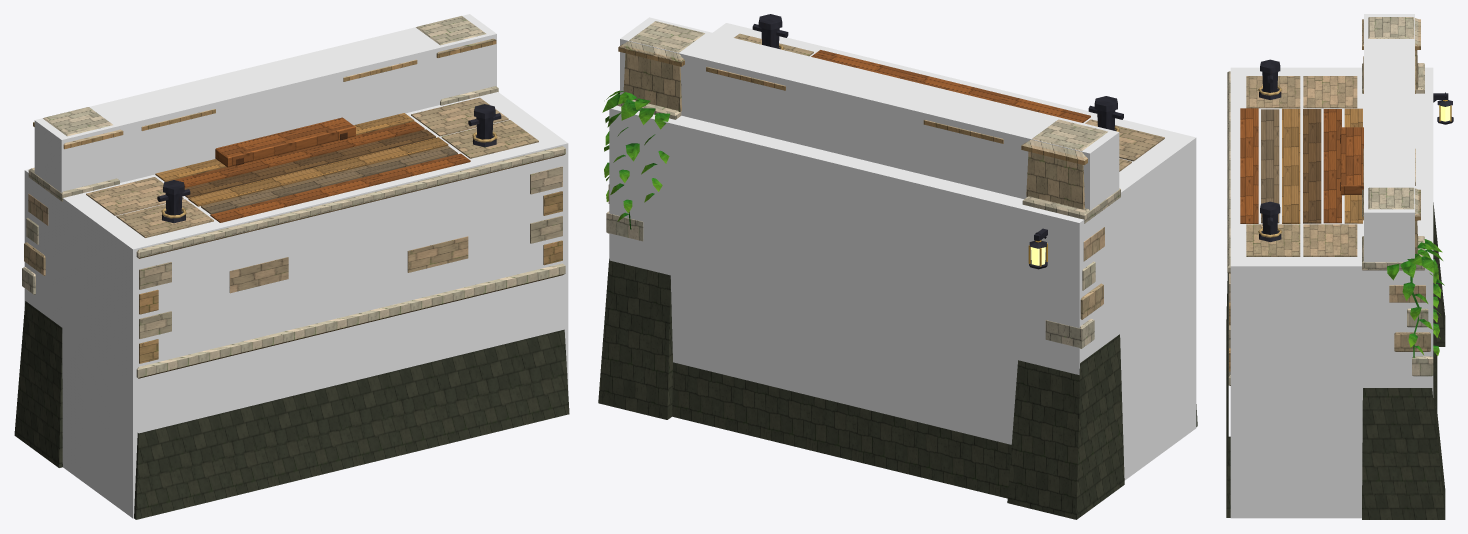
The model's file is seawall_bastion.glb.
The picture shows the model from 3 angles, left to right: view 1: azimuth 30°, elevation 25°; view 2: azimuth 150°, elevation 25°; view 3: azimuth 270°, elevation 25°; orthographic projection. The views are drawn at different scales.
Parts seen in each view (by area): view 1: col_seawall_base, SeawallBastion, col_seawall_parapet; view 2: col_seawall_base, SeawallBastion, col_seawall_parapet; view 3: col_seawall_base, SeawallBastion, col_seawall_parapet.
Boxes of the visible parts, box(x1,y1,x2,y2) form: col_seawall_base: box(24, 92, 568, 518); SeawallBastion: box(14, 16, 569, 519); col_seawall_parapet: box(34, 14, 496, 192); col_seawall_base: box(609, 23, 1196, 480); SeawallBastion: box(598, 14, 1197, 519); col_seawall_parapet: box(620, 17, 1119, 210); col_seawall_base: box(1230, 67, 1433, 518); SeawallBastion: box(1226, 17, 1453, 519); col_seawall_parapet: box(1364, 14, 1414, 262).
Bounding box in the file's own units: 9.69 × 6.64 × 4.46.
Materials: 8 (6 with a texture image).
